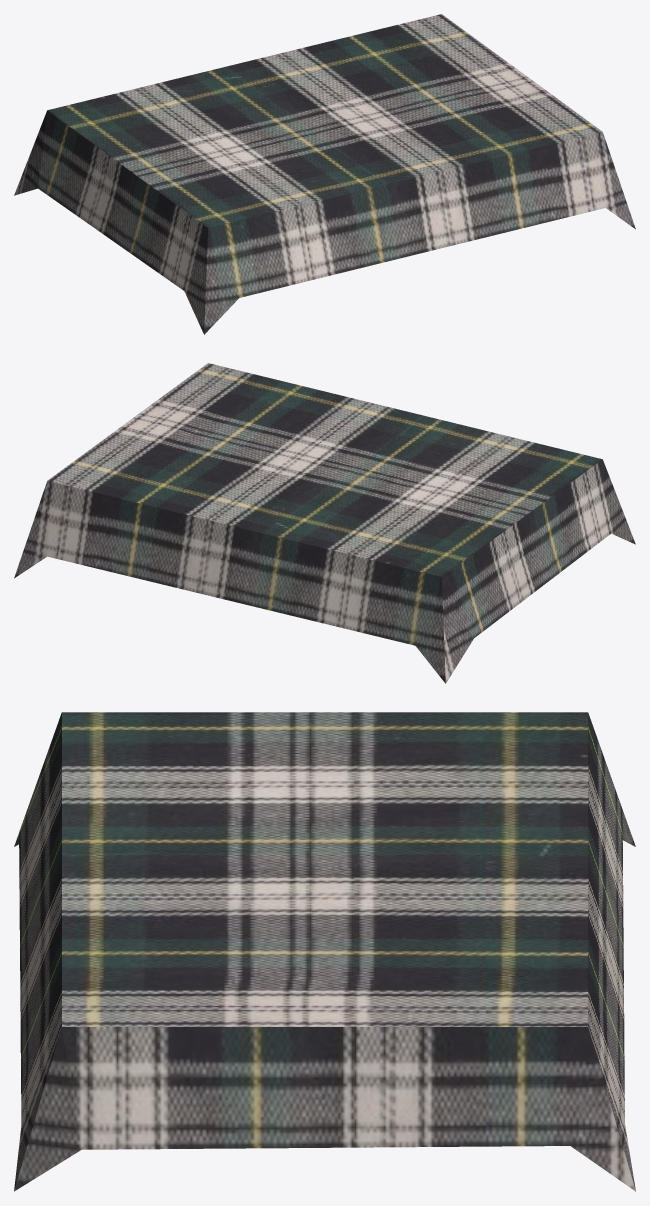
The model's file is House_Demo_034-col.glb.
3 renders of one model, top to bottom at view 1: azimuth 30°, elevation 25°; view 2: azimuth 150°, elevation 25°; view 3: azimuth 270°, elevation 25°, orthographic. The views are drawn at different scales.
Parts seen in each view (by area): view 1: House_Demo_034-col; view 2: House_Demo_034-col; view 3: House_Demo_034-col.
Boxes of the visible parts, x1,y1,x2,y2 form: House_Demo_034-col: (14, 14, 635, 334); House_Demo_034-col: (14, 363, 635, 683); House_Demo_034-col: (14, 712, 635, 1191).
Bounding box in the file's own units: 1.82 × 0.3656 × 1.38.
Materials: 1 (1 with a texture image).
